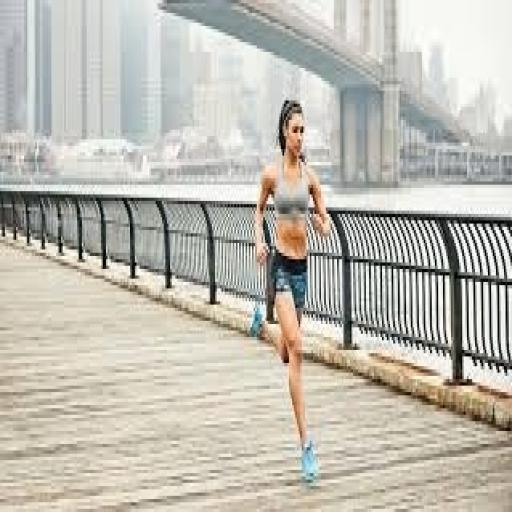running: (247, 94, 334, 489)
